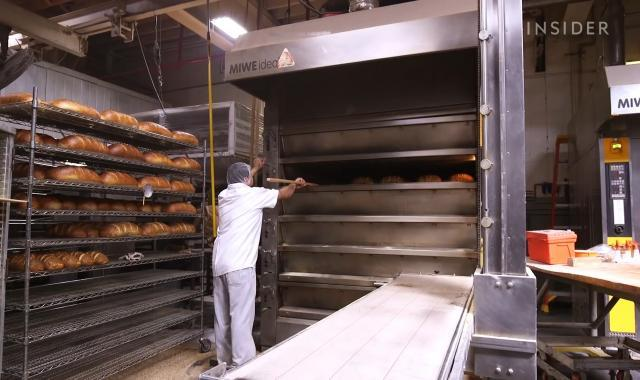Hairnet: (225, 161, 252, 186)
No_Apron: (218, 190, 256, 297)
No_Glove: (252, 156, 267, 170), (294, 175, 306, 188)
